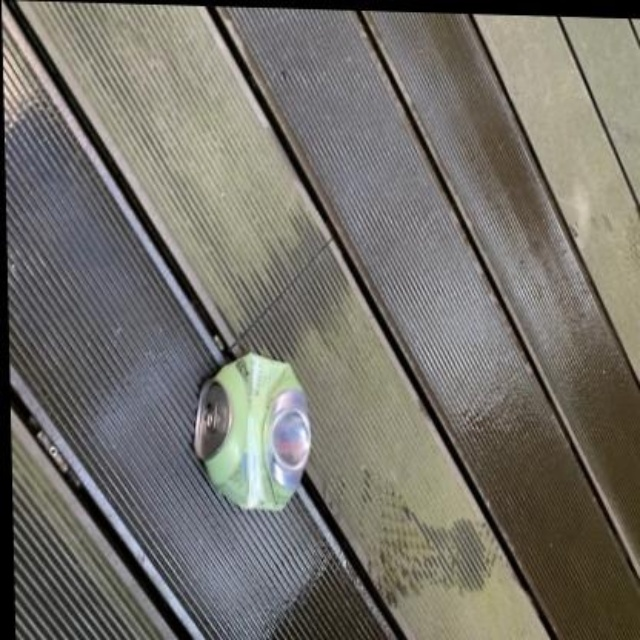trash: (194, 352, 309, 509)
